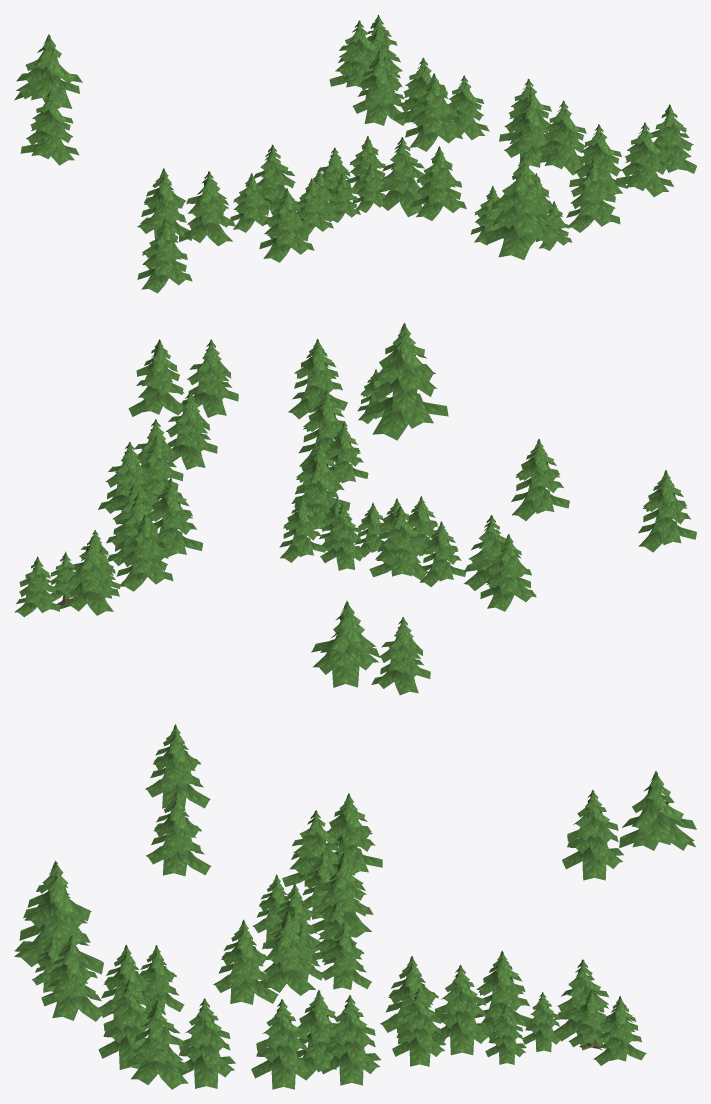
The model's file is songshuye_01.FBX.
3 views of the same model, one above another, from view 1: azimuth 30°, elevation 25°; view 2: azimuth 150°, elevation 25°; view 3: azimuth 270°, elevation 25° (orthographic). The views are drawn at different scales.
Parts seen in each view (by area): view 1: Object043; view 2: Object043; view 3: Object043.
Part boxes in pixels (x1,y1,x2,y2): Object043: [14, 15, 696, 293]; Object043: [14, 322, 696, 695]; Object043: [14, 724, 696, 1089].
Bounding box in the file's own units: 4579 × 992 × 4377.
